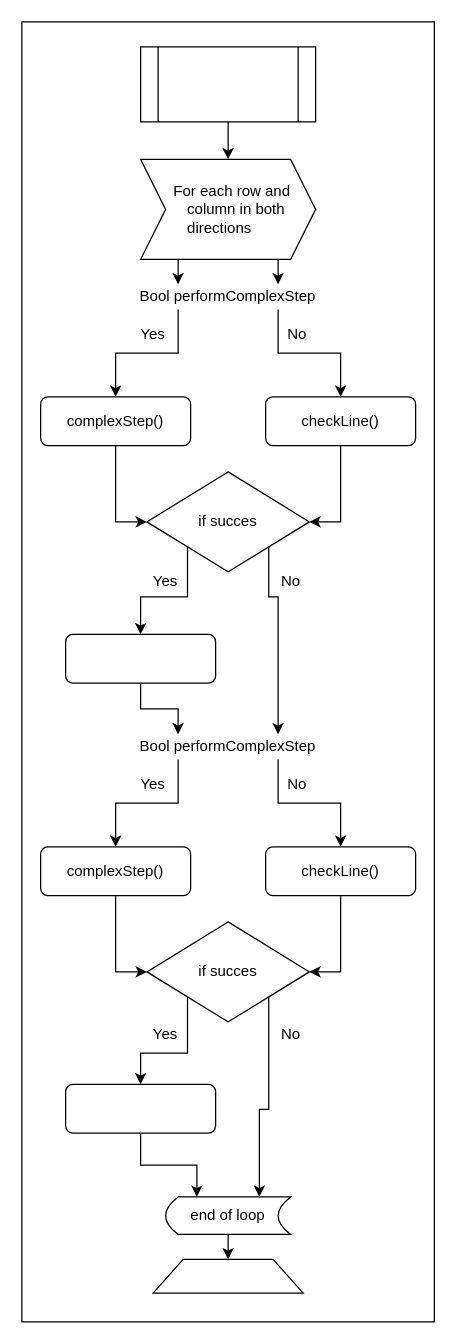
This 456x1344 diagram has some shape labels left out. Here are the shapes that lost their labels. From the top down, the box of each, then its label:
(139, 46, 316, 122): loopAroundGrid!()
(64, 633, 216, 683): setColumn!()
(64, 1083, 216, 1133): setRow!()
(152, 1258, 303, 1293): return
